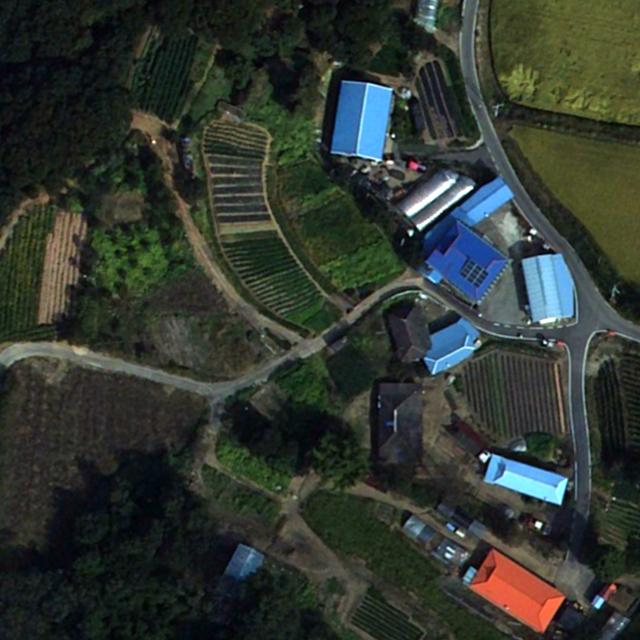panel: (457, 257, 489, 288)
